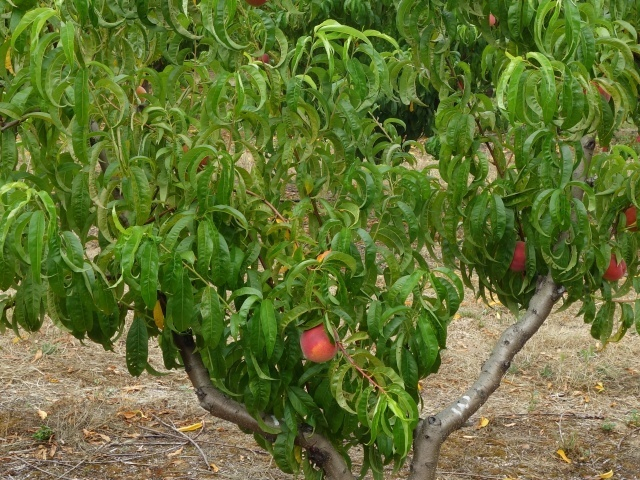peach: (295, 316, 344, 367), (597, 250, 628, 286), (508, 236, 532, 279), (618, 199, 640, 236)
